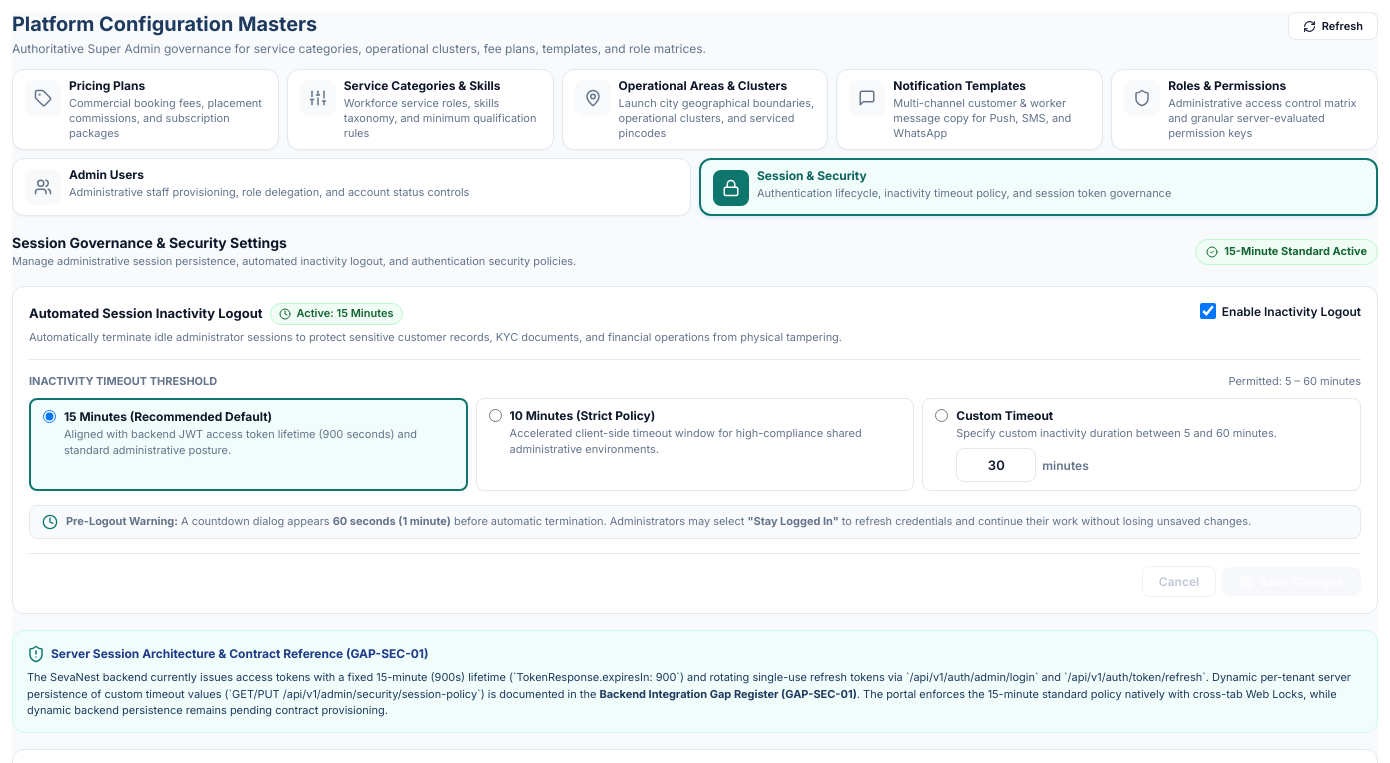
Custom Session Inactivity Timeout Configuration & Guard Enforcement › 2. Custom Timeout Selection & Permitted Range Validation (5 - 60 min) › rejects values below minimum 5 minutes
The width and height of the screenshot is (1390, 763).
Click the radio button with test id "timeout-option-custom".
click(942, 415)  # box [935, 409, 948, 422]
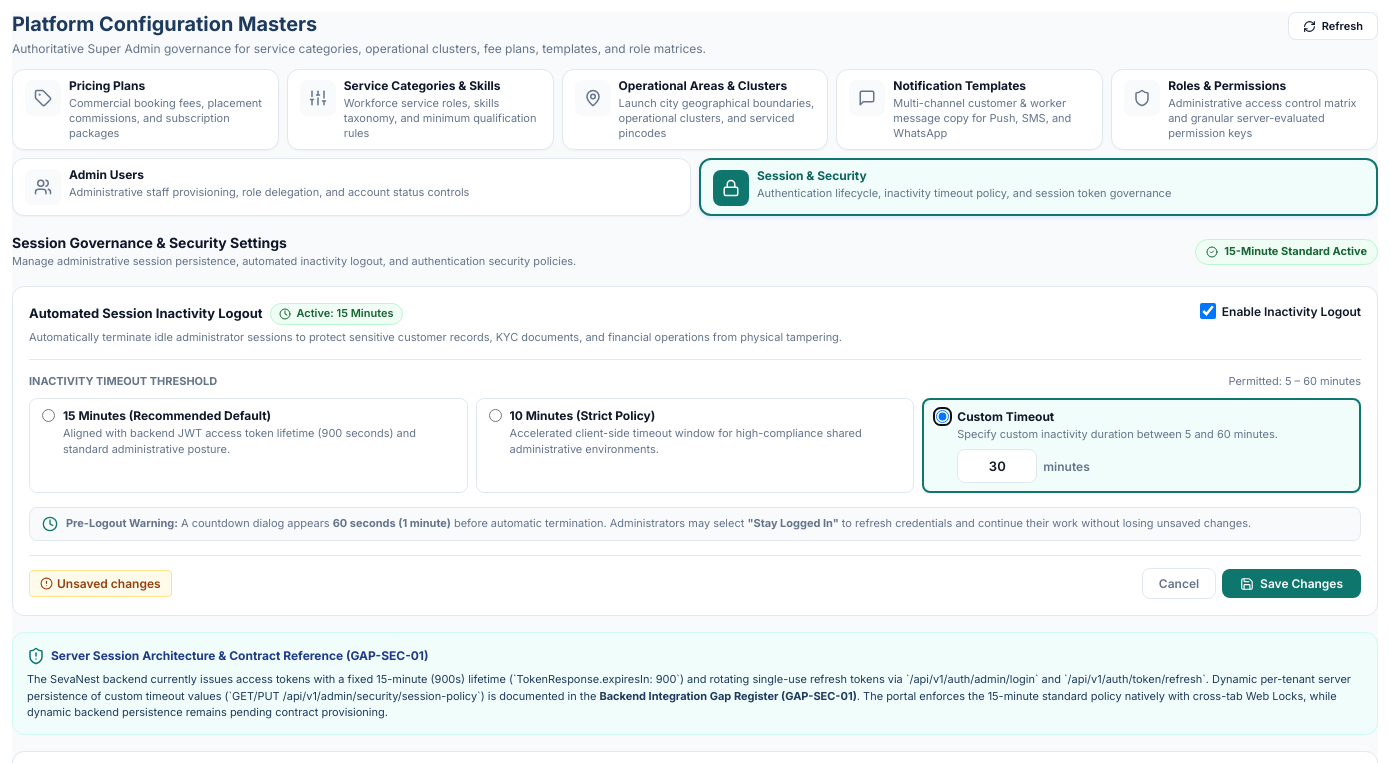
Replace the text in the number field with test id "custom-timeout-input" with "4" at (997, 466), box [957, 449, 1037, 483]
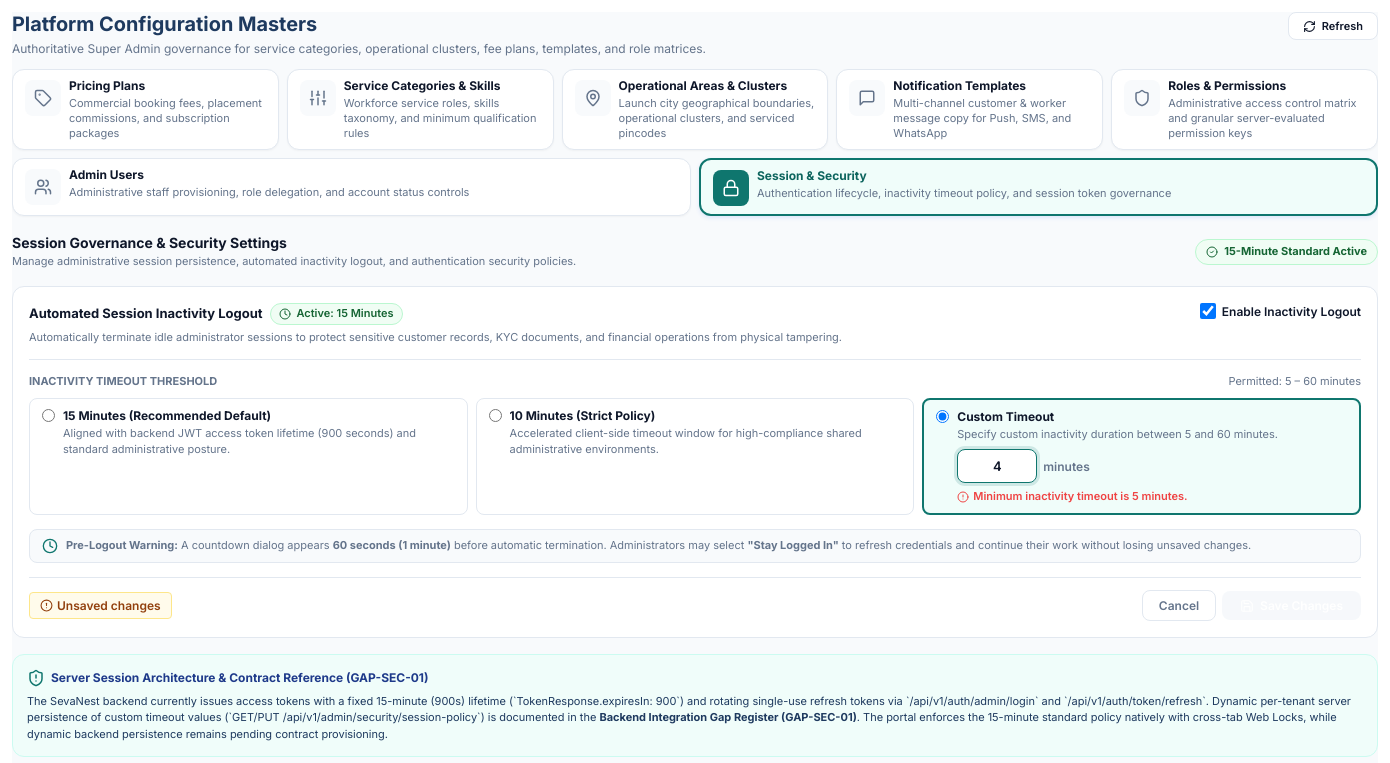
Now the message with test id "custom-timeout-error" shows "Minimum inactivity timeout is 5 minutes", box [973, 489, 1188, 503]
